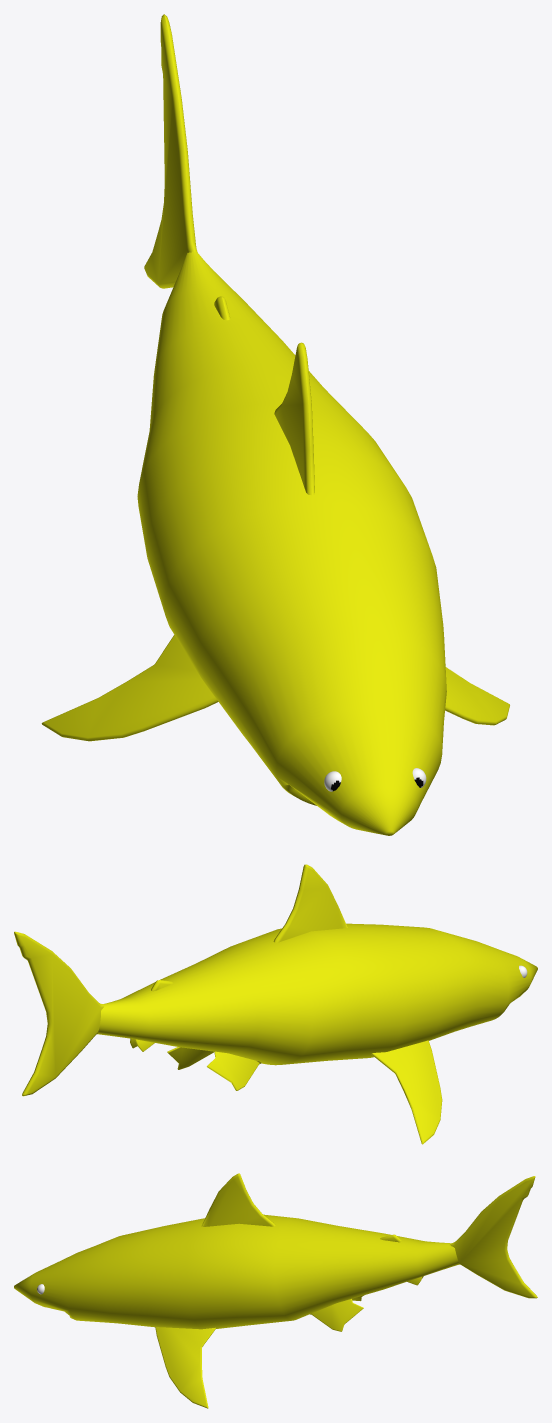
The model's file is yellow-shark.glb.
3 renders of one model, top to bottom at view 1: azimuth 30°, elevation 25°; view 2: azimuth 150°, elevation 25°; view 3: azimuth 270°, elevation 25°, orthographic. The views are drawn at different scales.
Visible parts, largest first — view 1: Jaws.001, Vert.001, Vert.010, Vert.011; view 2: Jaws.001, Vert.010, Vert.001, Vert.011, Vert.003; view 3: Jaws.001, Vert.010, Vert.001, Vert.011, Vert.003.
Boxes of the visible parts, left/top/right/bottom form: Jaws.001: left=137, top=251, right=446, bottom=835; Vert.001: left=41, top=635, right=509, bottom=741; Vert.010: left=144, top=14, right=197, bottom=288; Vert.011: left=274, top=342, right=314, bottom=495; Jaws.001: left=97, top=923, right=537, bottom=1065; Vert.010: left=14, top=931, right=104, bottom=1096; Vert.001: left=371, top=1040, right=442, bottom=1144; Vert.011: left=273, top=864, right=347, bottom=942; Vert.003: left=167, top=1047, right=261, bottom=1090; Jaws.001: left=14, top=1214, right=459, bottom=1329; Vert.010: left=450, top=1176, right=537, bottom=1298; Vert.001: left=155, top=1327, right=216, bottom=1408; Vert.011: left=201, top=1173, right=275, bottom=1226; Vert.003: left=310, top=1295, right=363, bottom=1331.
Bounding box in the file's own units: 1.05 × 1.15 × 2.38.
